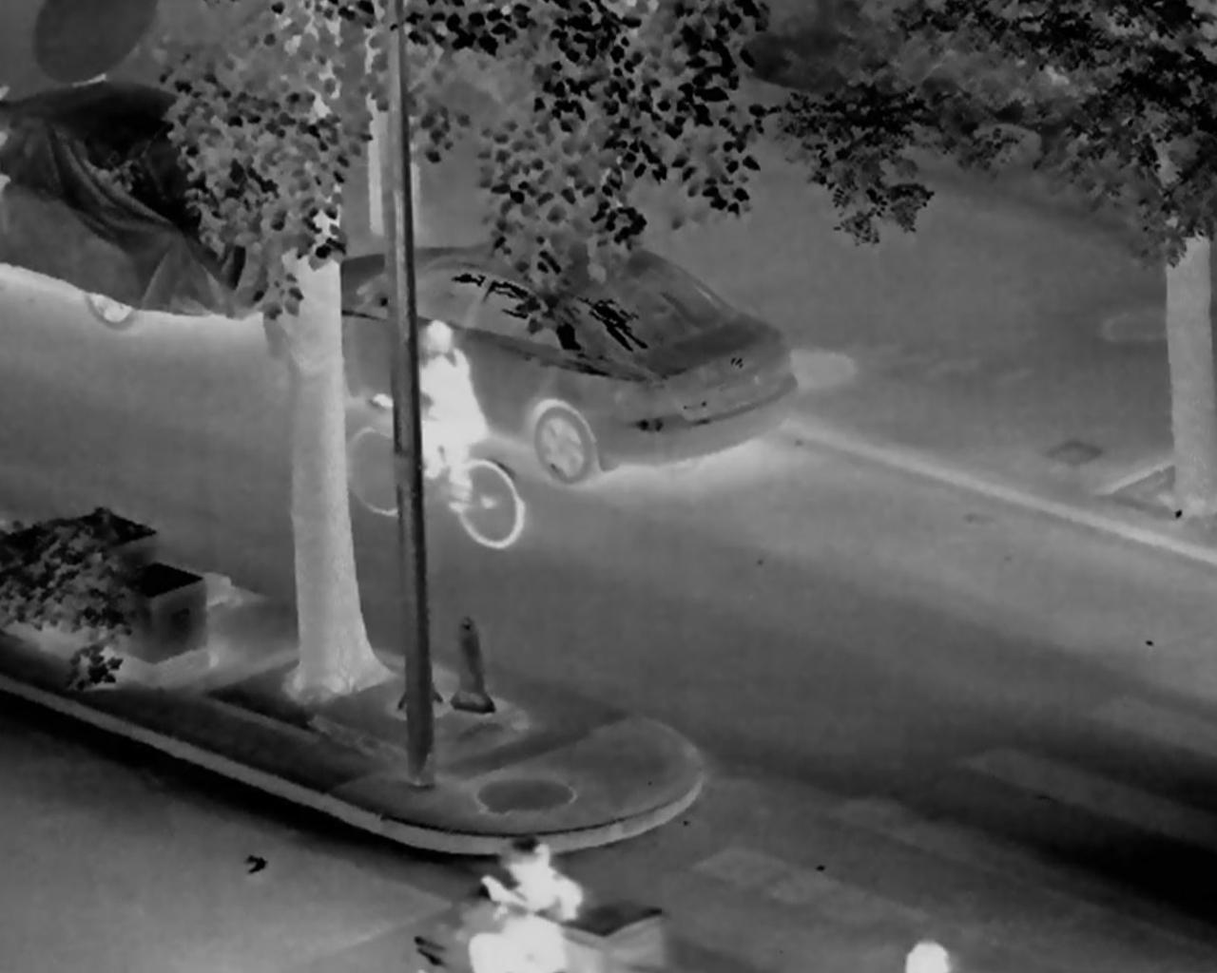person: (378, 324, 492, 502), (477, 835, 583, 972), (897, 934, 955, 973)
